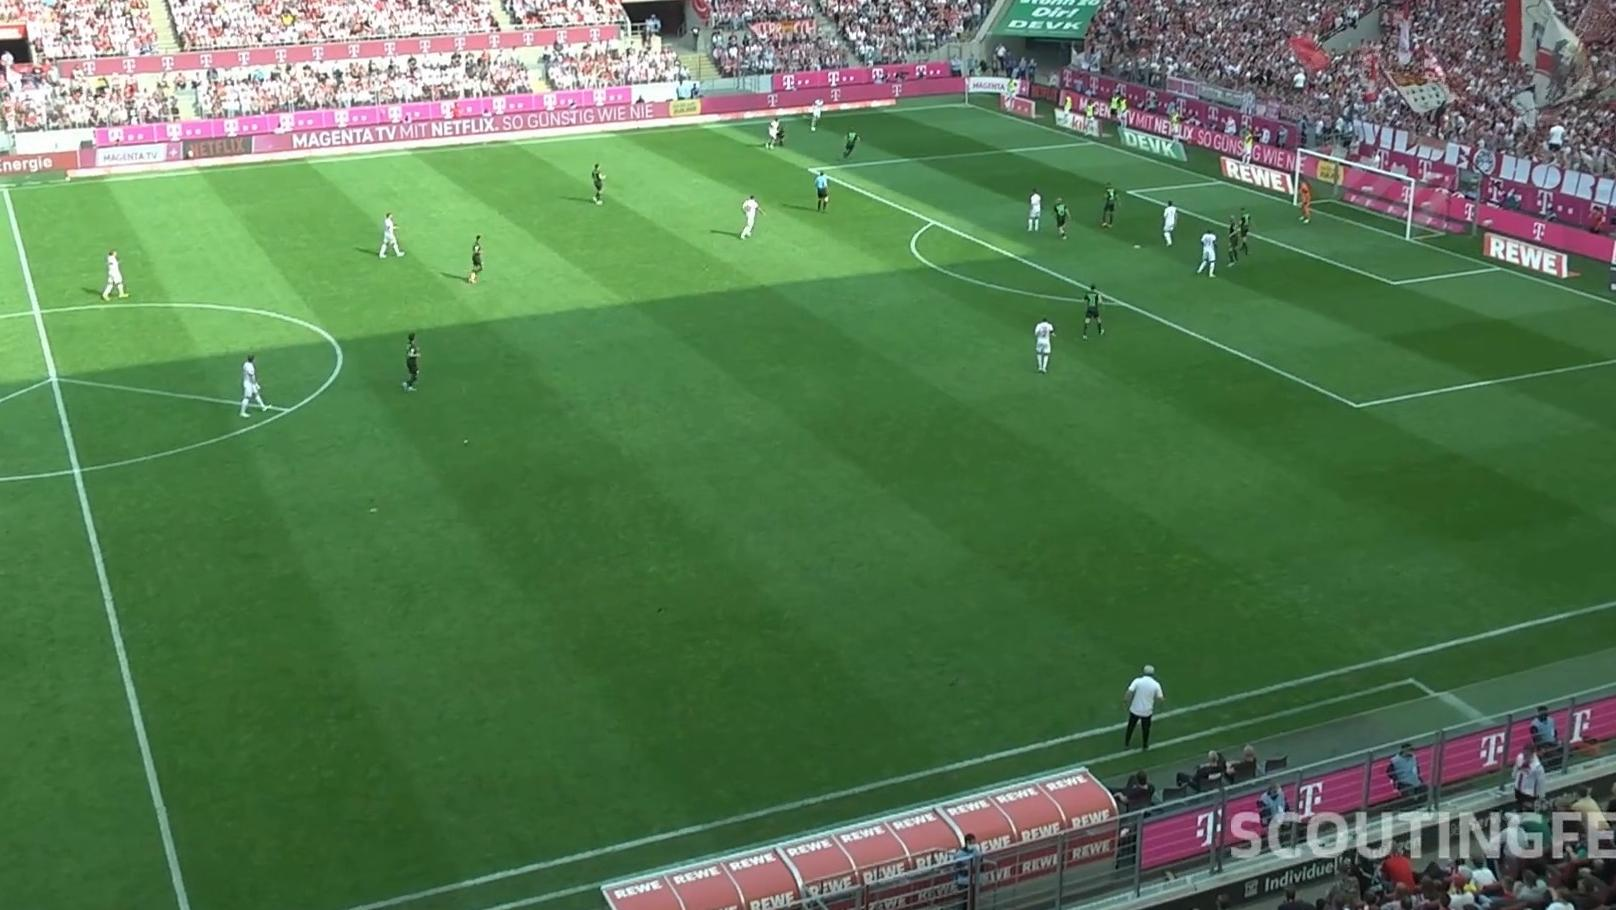ball: (810, 125, 817, 133)
